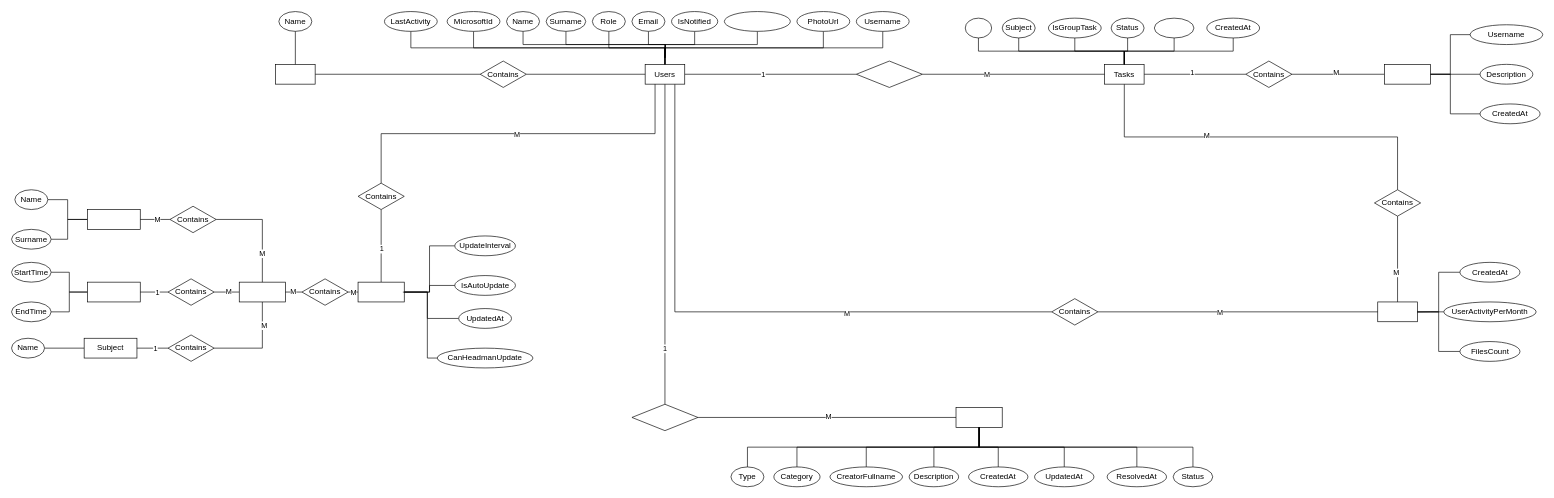
The diagram is 1554 pixels wide and 498 high, and some of its shapes have lost their labels. Here are the shapes that lost their labels. From the top down, the centre of each, then its label:
At (x=757, y=21): "ReminderOffset".
At (x=978, y=27): "Title".
At (x=1174, y=27): "Deadline".
At (x=295, y=74): "Groups".
At (x=889, y=73): "Manipulate".
At (x=1407, y=74): "Comments".
At (x=113, y=219): "Lecturers".
At (x=113, y=291): "LessonsSlots".
At (x=262, y=291): "Lessons".
At (x=380, y=291): "Schedules".
At (x=1397, y=311): "Statistics".
At (x=664, y=417): "Create".
At (x=978, y=417): "Feedbacks".
